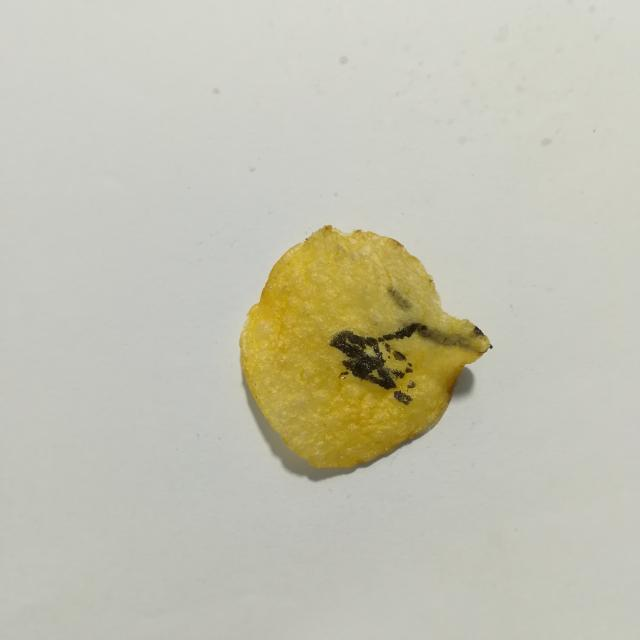chip: (240, 226, 490, 468)
damaged: (330, 325, 416, 389), (394, 390, 412, 405), (393, 351, 406, 360), (385, 343, 391, 354), (407, 381, 415, 389), (406, 367, 413, 373), (341, 370, 349, 375), (388, 354, 390, 359)
semi-damaged: (416, 324, 487, 353), (388, 287, 411, 309), (471, 326, 487, 340)
